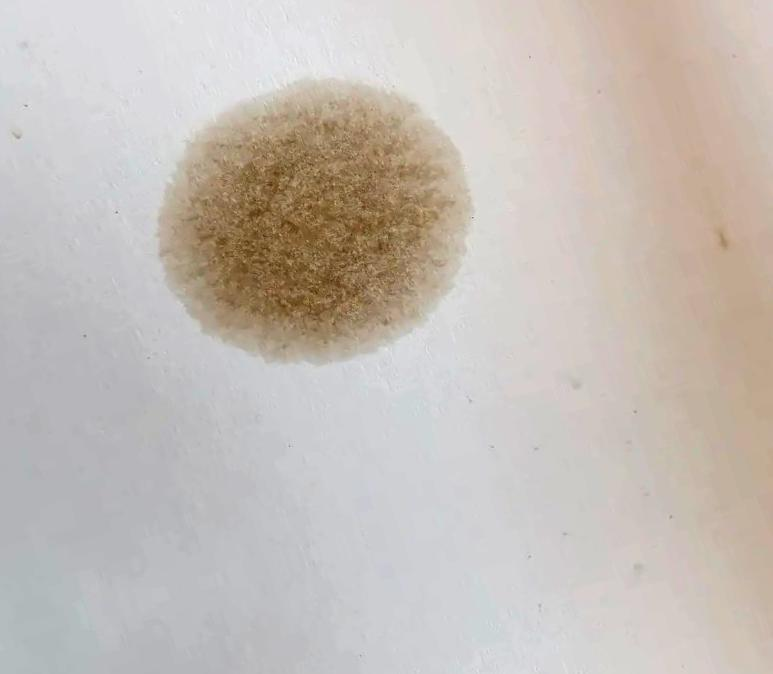stain: (154, 64, 481, 372)
